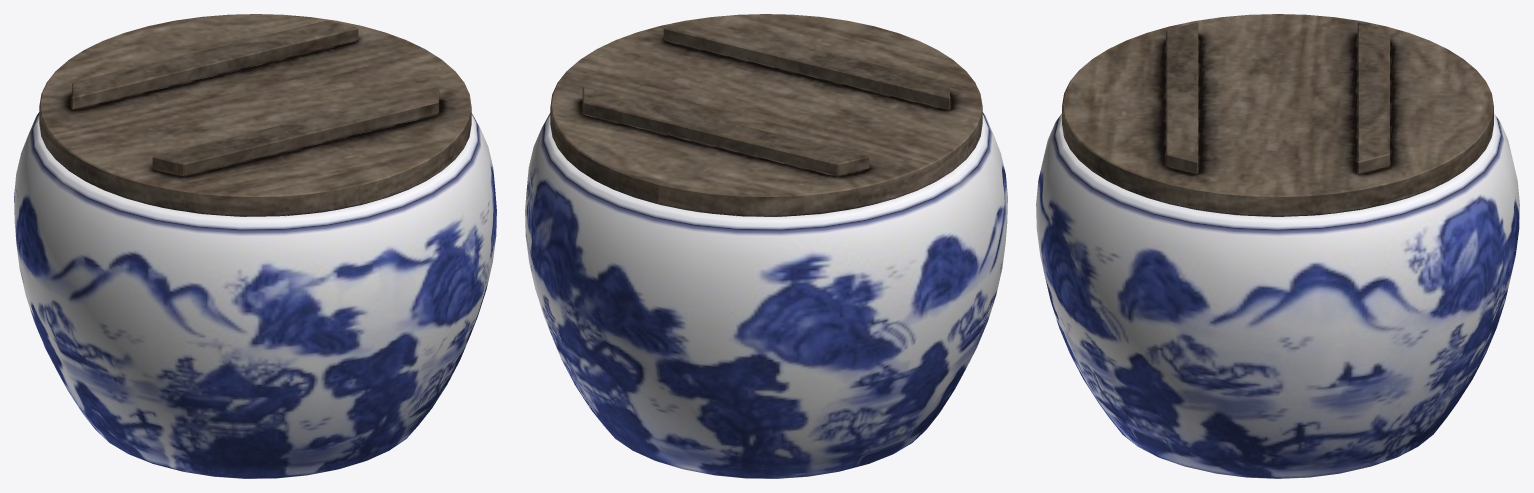
File: brasero.glb
3 renders of one model, left to right at view 1: azimuth 30°, elevation 25°; view 2: azimuth 150°, elevation 25°; view 3: azimuth 270°, elevation 25°, orthographic.
Visible parts, largest first — view 1: Hibachi_Vase_0, Hibachi_Lid_0; view 2: Hibachi_Vase_0, Hibachi_Lid_0; view 3: Hibachi_Vase_0, Hibachi_Lid_0.
Part boxes in pixels (<box>): Hibachi_Vase_0: <box>14,112,496,478</box>; Hibachi_Lid_0: <box>39,14,471,216</box>; Hibachi_Vase_0: <box>525,112,1007,478</box>; Hibachi_Lid_0: <box>550,14,982,216</box>; Hibachi_Vase_0: <box>1036,113,1519,478</box>; Hibachi_Lid_0: <box>1062,14,1493,216</box>.
Size of the model in its own units: 0.4383 by 0.32 by 0.4383.
2 materials, 2 textured.
